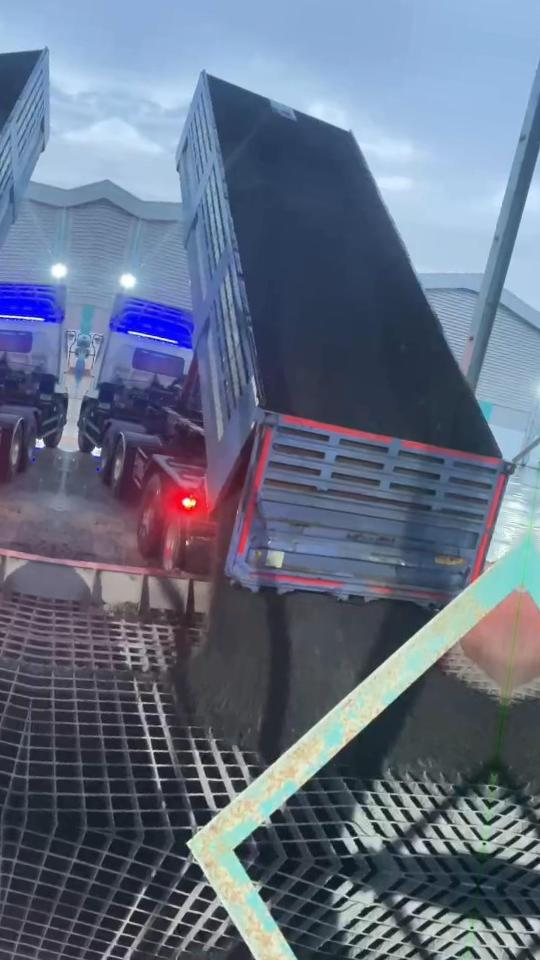gravel: (187, 591, 430, 761), (239, 180, 382, 419), (332, 665, 498, 778)
